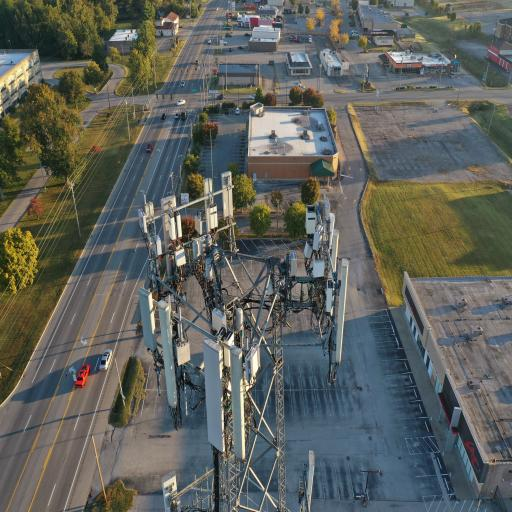supporting_tower: (137, 170, 349, 512)
